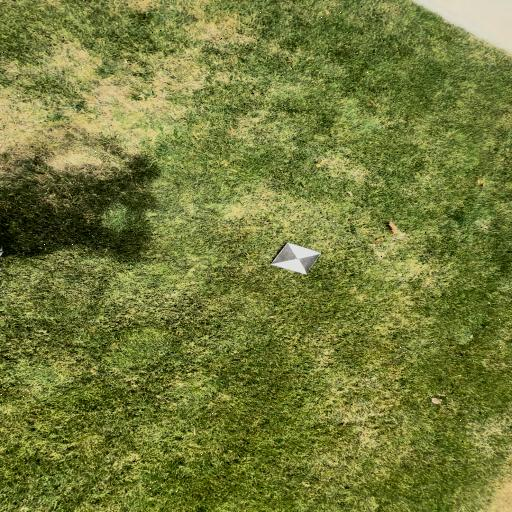target: (272, 243, 321, 274)
